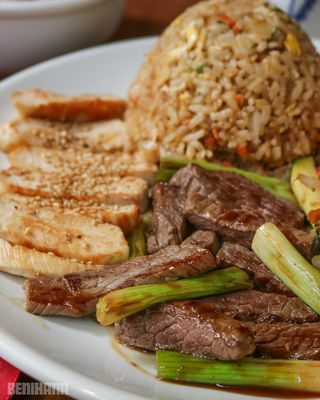sushi: (0, 0, 127, 79)
